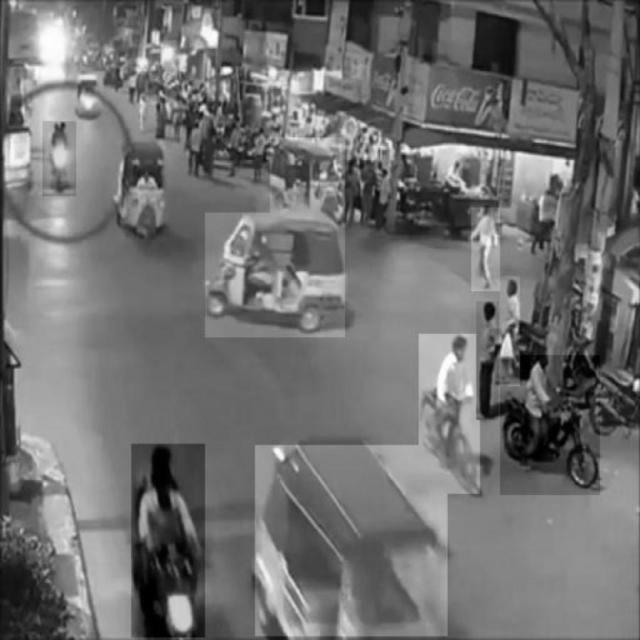person: (477, 302, 499, 420), (471, 208, 499, 291), (501, 277, 521, 387)
vehicle: (256, 445, 448, 635), (206, 213, 346, 337), (132, 444, 205, 638), (501, 355, 601, 495), (419, 334, 480, 494), (270, 138, 344, 222), (119, 141, 166, 243), (42, 122, 76, 196)
